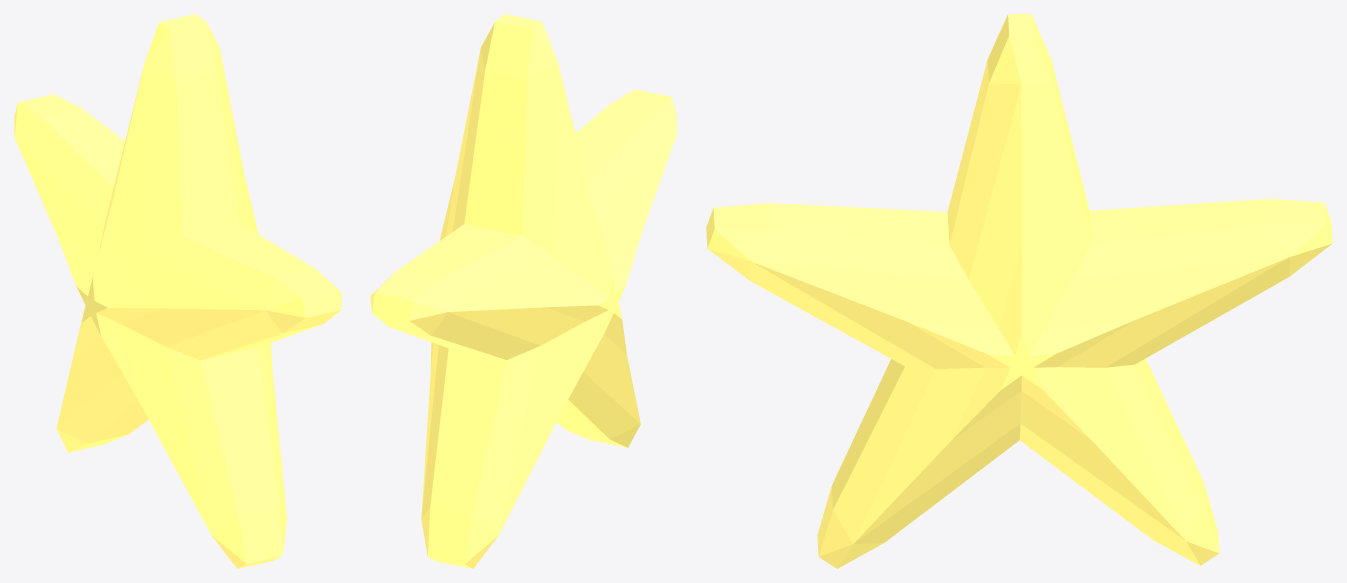
The model's file is Bintangzz.fbx.
3 renders of one model, left to right at view 1: azimuth 30°, elevation 25°; view 2: azimuth 150°, elevation 25°; view 3: azimuth 270°, elevation 25°, orthographic. The views are drawn at different scales.
Visible parts, largest first — view 1: Bintang; view 2: Bintang; view 3: Bintang.
Part boxes in pixels (left/top/right/bottom): Bintang: left=14, top=14, right=341, bottom=568; Bintang: left=370, top=14, right=677, bottom=568; Bintang: left=706, top=14, right=1332, bottom=568.
Size of the model in its own units: 158 by 422 by 443.
